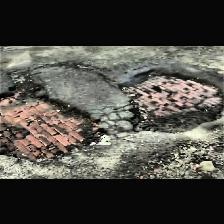pothole: (0, 80, 110, 158), (117, 70, 223, 132)
